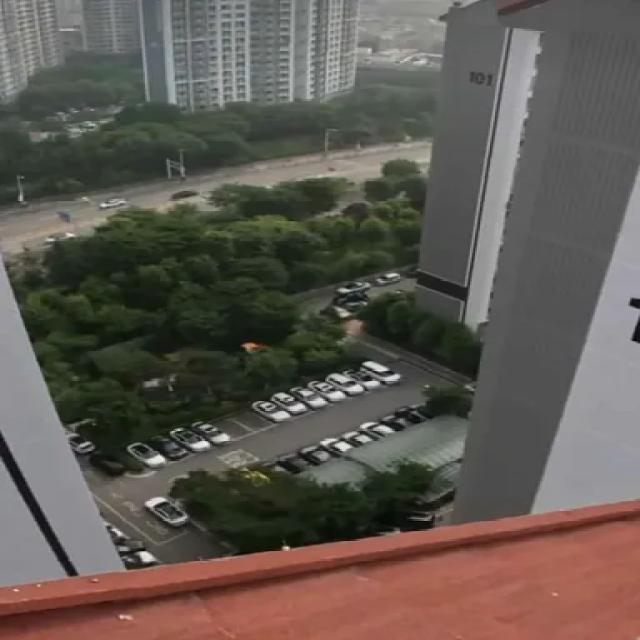car: (142, 495, 191, 527), (166, 426, 213, 454), (323, 370, 372, 396), (125, 441, 168, 470), (359, 360, 404, 386), (145, 434, 189, 460), (189, 419, 232, 445), (305, 378, 349, 403), (248, 399, 293, 423), (288, 384, 330, 409), (272, 450, 315, 474), (269, 390, 310, 415), (341, 367, 382, 389), (295, 443, 339, 463), (123, 549, 164, 570), (319, 434, 361, 454), (64, 429, 96, 454), (375, 412, 417, 431), (329, 278, 373, 296), (393, 404, 429, 425), (109, 536, 148, 555), (357, 422, 397, 439), (342, 429, 378, 447), (97, 196, 134, 209), (372, 270, 401, 285)
